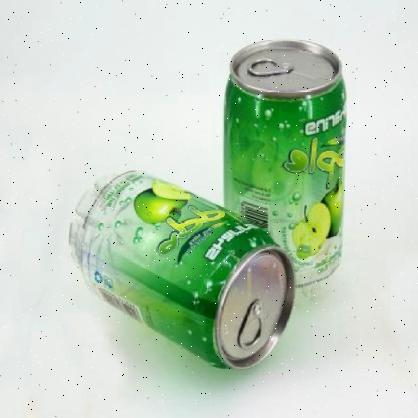can: (222, 39, 346, 296)
